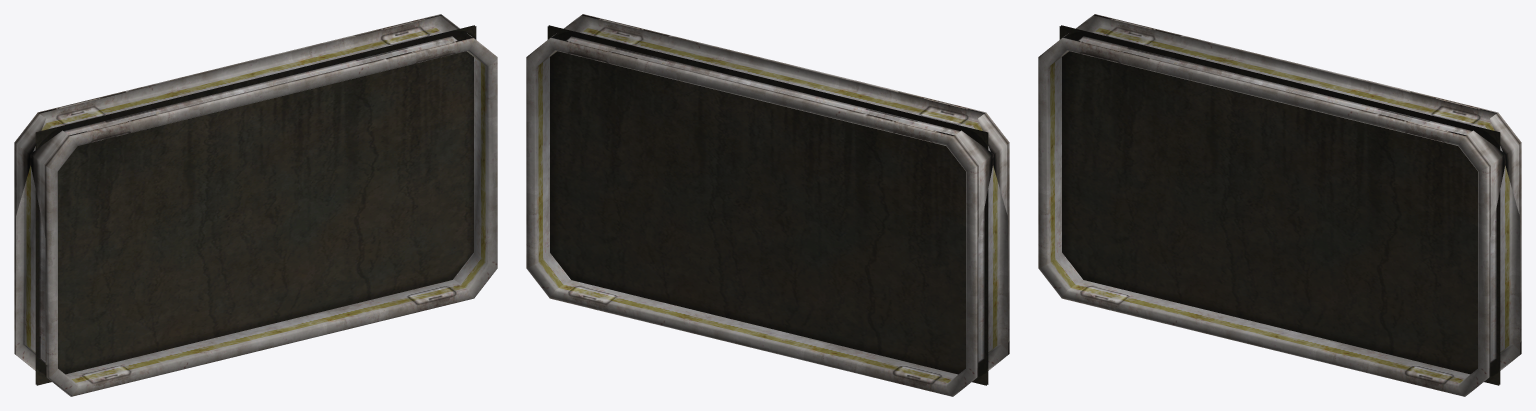
Rendered from lambda_window_large.dae.
The picture shows the model from 3 angles, left to right: view 1: azimuth 30°, elevation 25°; view 2: azimuth 150°, elevation 25°; view 3: azimuth 330°, elevation 25°; orthographic projection.
Parts seen in each view (by area): view 1: glass, theta_ground_window_frame; view 2: glass, theta_ground_window_frame; view 3: glass, theta_ground_window_frame.
Part boxes in pixels (bbox=[...]): glass: bbox=[35, 25, 476, 385]; theta_ground_window_frame: bbox=[14, 14, 497, 396]; glass: bbox=[547, 25, 988, 385]; theta_ground_window_frame: bbox=[526, 14, 1009, 396]; glass: bbox=[1059, 25, 1500, 385]; theta_ground_window_frame: bbox=[1038, 14, 1521, 396].
Bounding box in the file's own units: 4.27 × 2.36 × 0.576.
